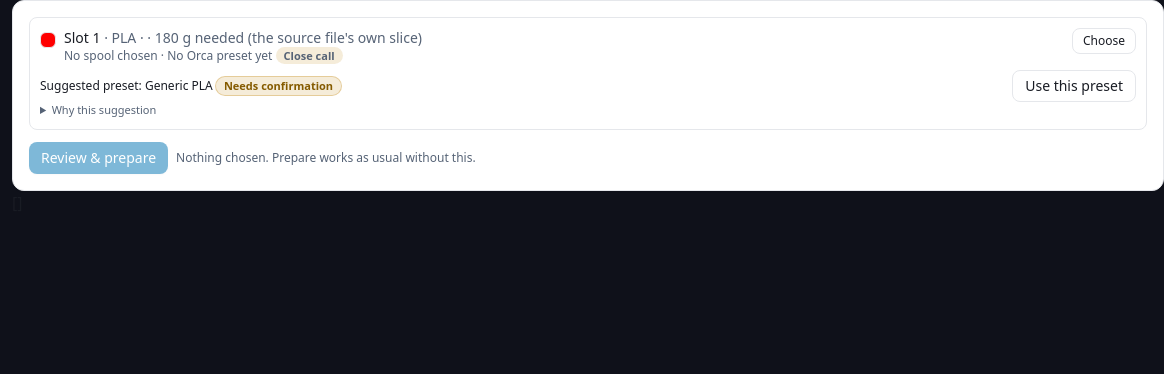
Test case: compact slot row › keeps the engine's long wording in details: the line stays short, the words stay available
Expected: the element with test id "suggestion" shows "Suggested preset: Generic PLA", [40,70,1136,118]
Expected: the text with test id "close-call" reads "Close call", [284,48,335,63]
Click the button with test id "slot-toggle".
click(1104, 41)  # box [1072,28,1136,54]
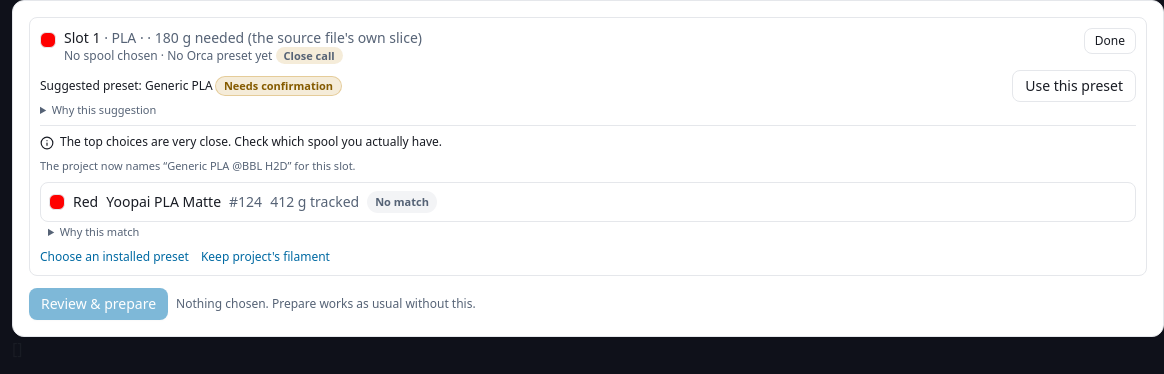
Expected: the element with test id "close-call-note" shows "very close", [60,132,442,150]
